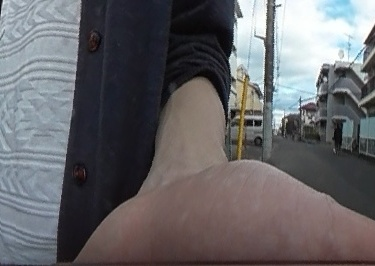person: (331, 118, 343, 152)
